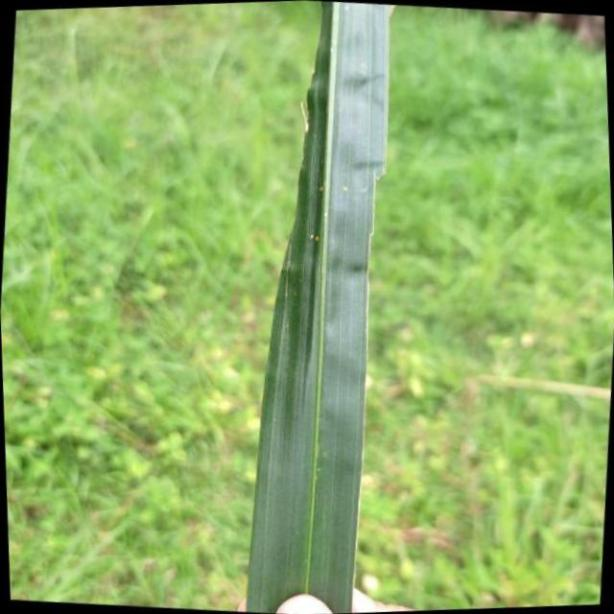Boron: (248, 0, 395, 614)
